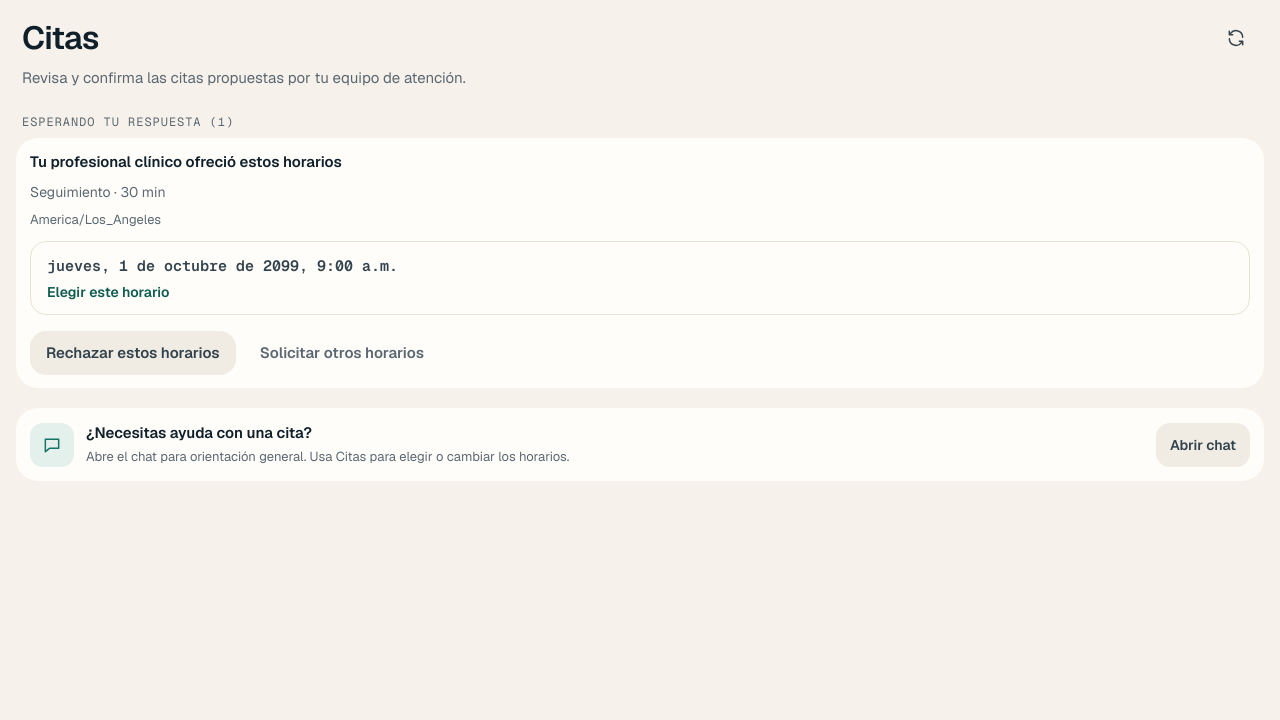
it: Visits recovery with the real data hook › retains the note and blocks stale actions after a failed es-MX focus refresh
Click the button "Solicitar otros horarios". click: (342, 353)
box: [244,331,440,375]
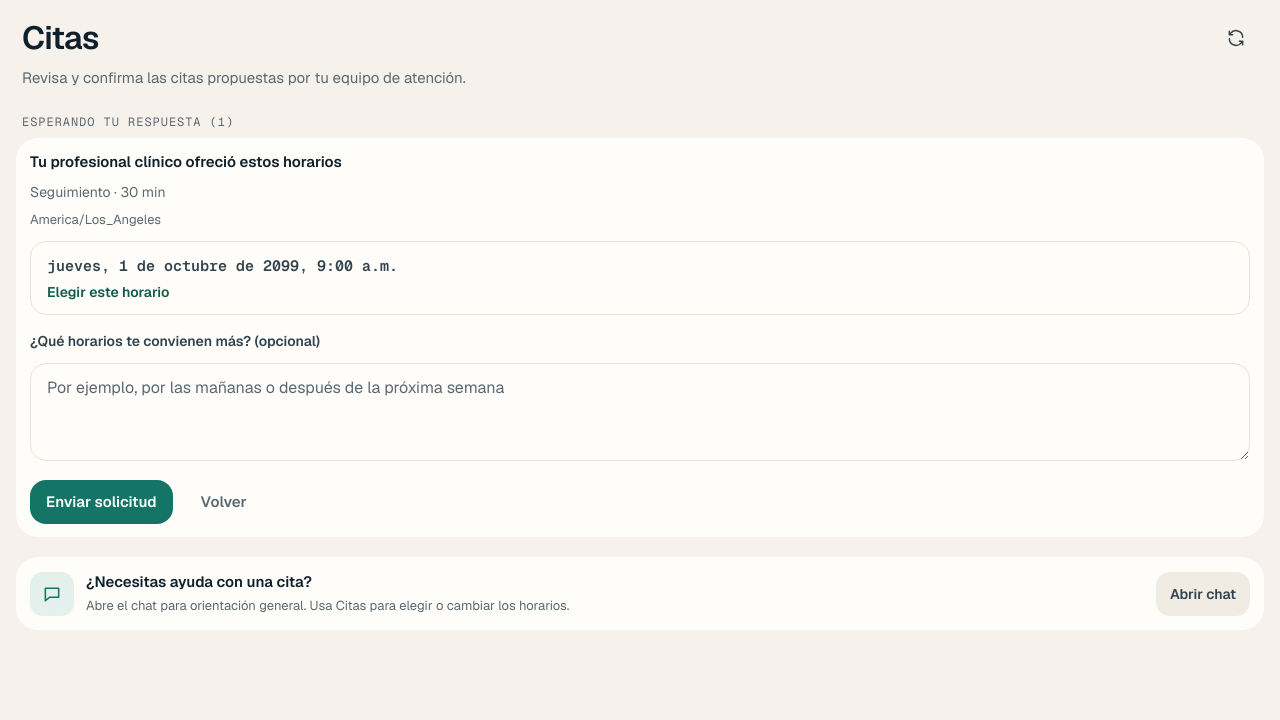
Type "Synthetic draft" into the text box. click: (640, 412)
box: [30,363,1250,461]
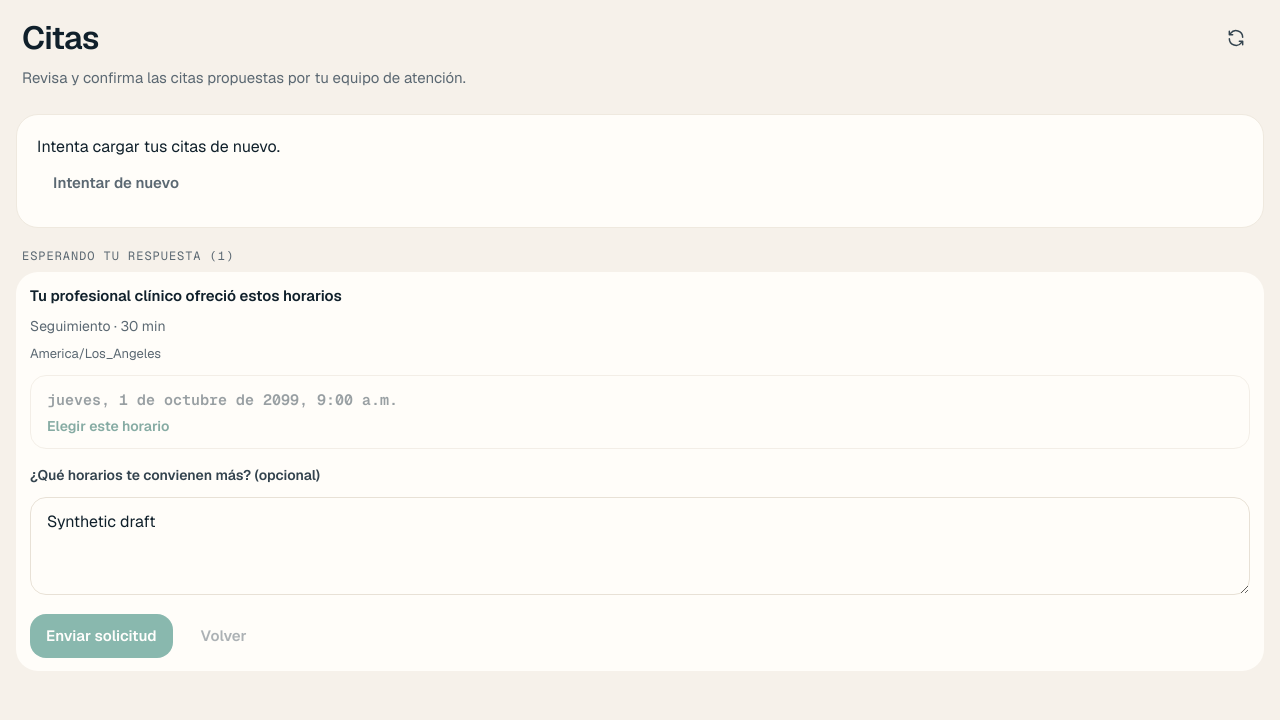
Now the message shows "Intenta cargar tus citas de nuevo", box [37,136,280,157]
Now the button "Enviar solicitud" is disabled, box [30,614,172,658]
Click the button "Intentar de nuevo". click: (116, 183)
box: [37,159,195,207]
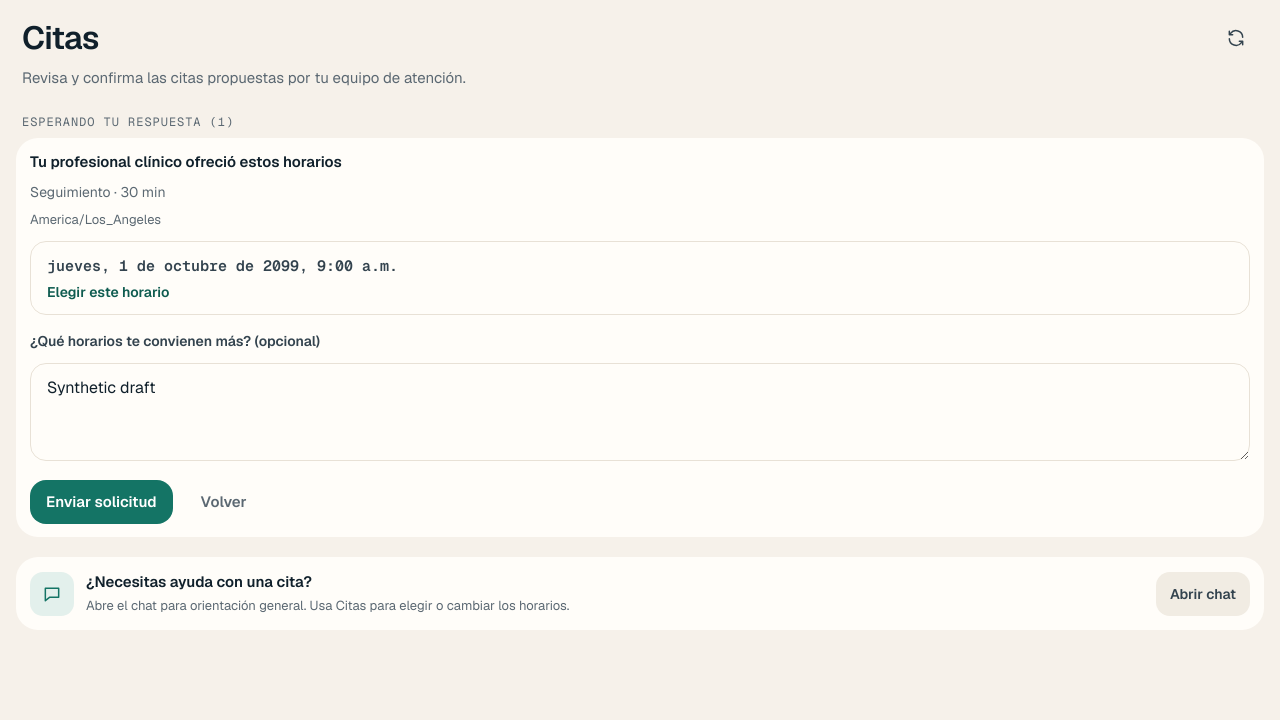
Now the button "Enviar solicitud" is enabled, box [30,480,172,524]
Now the message "Intenta cargar tus citas de nuevo." is gone
